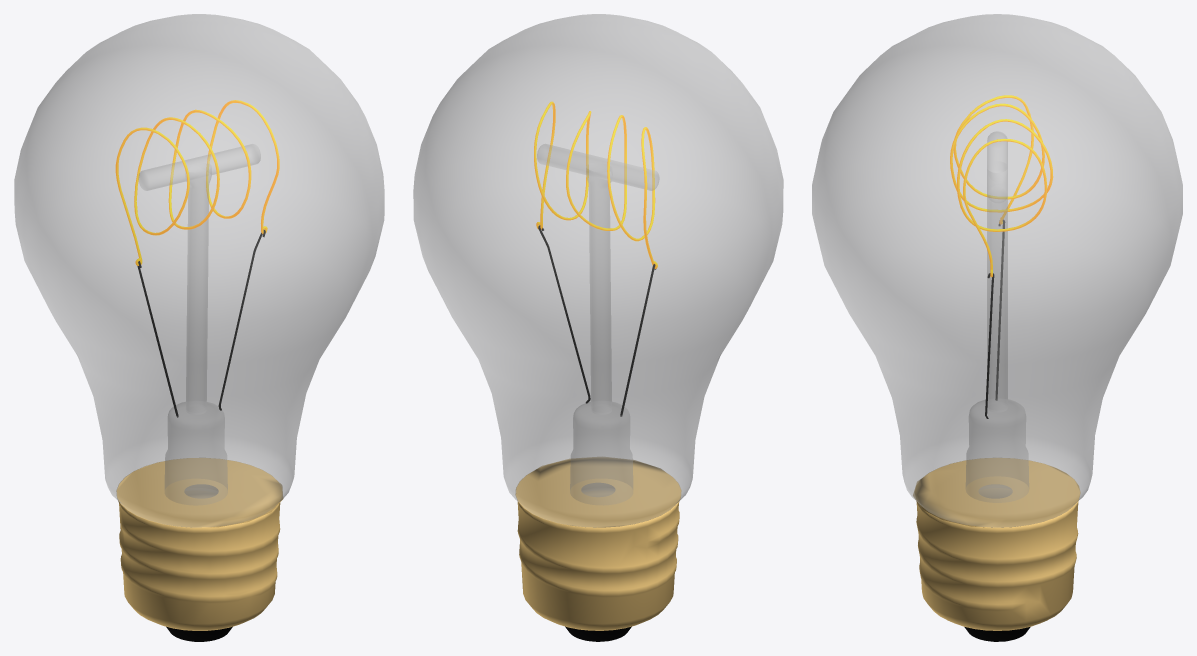
File: luz_bombilla_edison.glb
3 views of the same model, side by side, from view 1: azimuth 30°, elevation 25°; view 2: azimuth 150°, elevation 25°; view 3: azimuth 270°, elevation 25° (orthographic).
Visible parts, largest first — view 1: Object_2; view 2: Object_2; view 3: Object_2.
Part boxes in pixels (x1,y1,x2,y2): Object_2: [14, 14, 384, 641]; Object_2: [413, 14, 783, 641]; Object_2: [812, 14, 1182, 641].
Size of the model in its own units: 0.0667 by 0.12 by 0.0667.
